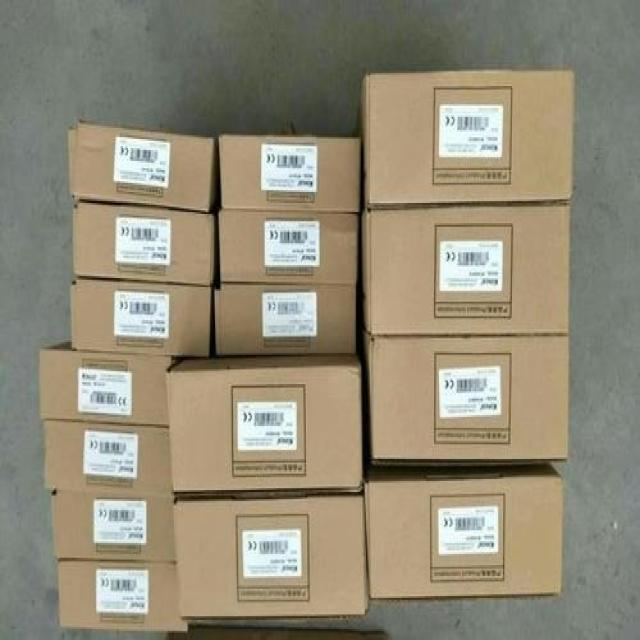box: (351, 69, 573, 207), (360, 327, 570, 463), (360, 205, 571, 336), (362, 463, 563, 600), (164, 355, 361, 492), (173, 496, 372, 624), (68, 119, 220, 212), (38, 340, 174, 428), (218, 133, 362, 214), (74, 201, 215, 283), (69, 278, 211, 357), (218, 207, 358, 283), (41, 419, 174, 497), (215, 283, 357, 355), (56, 560, 187, 633), (51, 490, 177, 561)
